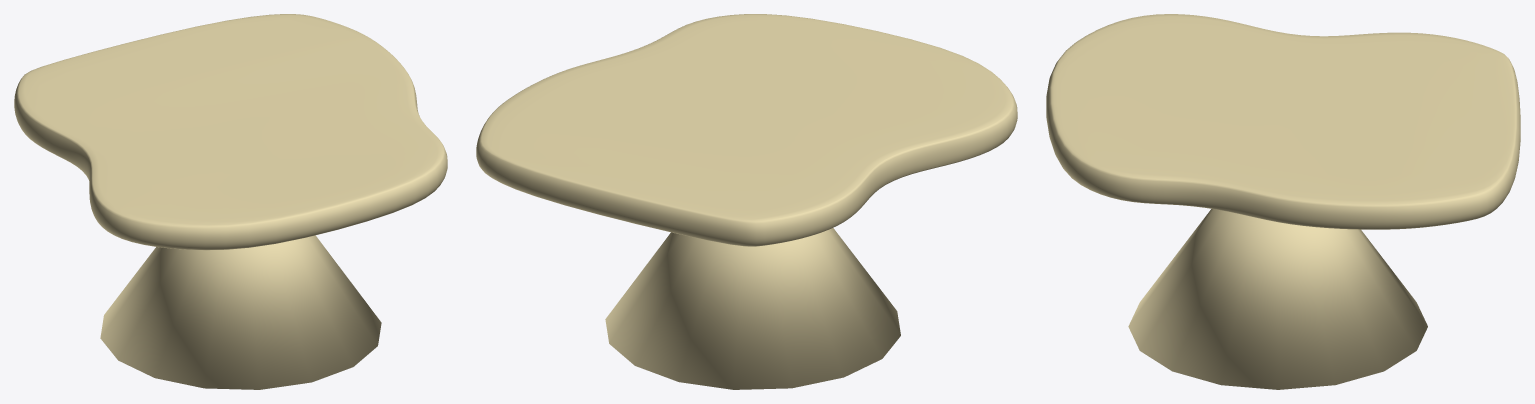
File: SM_Tables1.fbx
3 views of the same model, side by side, from view 1: azimuth 30°, elevation 25°; view 2: azimuth 150°, elevation 25°; view 3: azimuth 270°, elevation 25° (orthographic). The views are drawn at different scales.
Visible parts, largest first — view 1: ShroomTableTop.002; view 2: ShroomTableTop.002; view 3: ShroomTableTop.002.
Boxes of the visible parts, left/top/right/bottom form: ShroomTableTop.002: left=14, top=14, right=447, bottom=389; ShroomTableTop.002: left=476, top=14, right=1017, bottom=389; ShroomTableTop.002: left=1046, top=14, right=1520, bottom=389.
Bounding box in the file's own units: 190 × 99.1 × 195.
